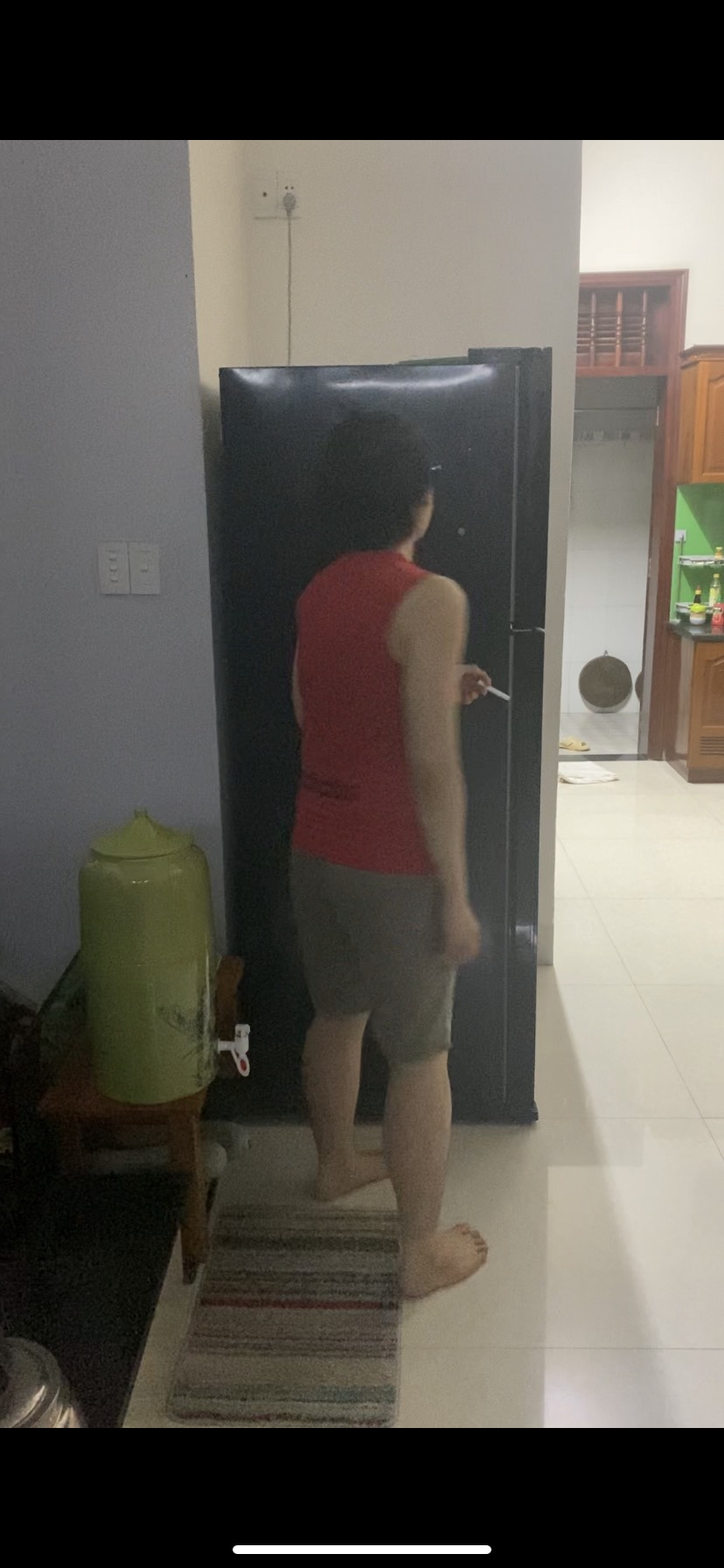cigarette: (485, 683, 512, 705)
person: (289, 419, 512, 1381)
